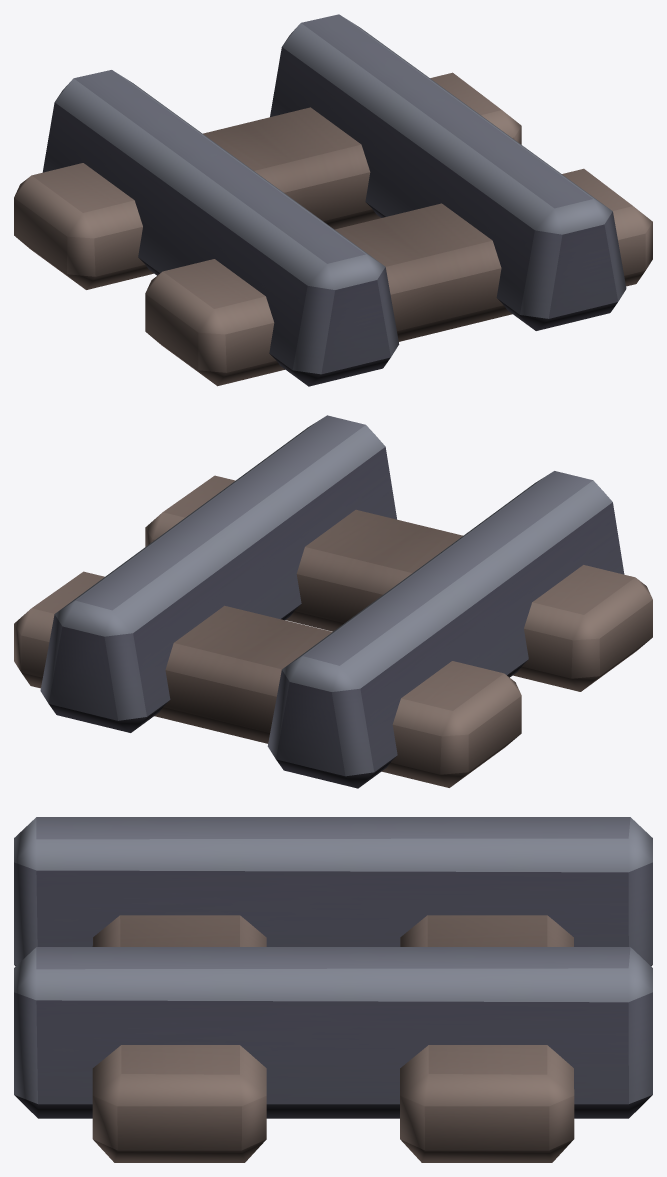
The model's file is elf_mine_rail_piece.fbx.
3 views of the same model, one above another, from view 1: azimuth 30°, elevation 25°; view 2: azimuth 150°, elevation 25°; view 3: azimuth 270°, elevation 25° (orthographic). The views are drawn at different scales.
Visible parts, largest first — view 1: elf_mine_rail_piece; view 2: elf_mine_rail_piece; view 3: elf_mine_rail_piece.
Boxes of the visible parts, x1=… form: elf_mine_rail_piece: x1=14, y1=14, x2=652, y2=386; elf_mine_rail_piece: x1=14, y1=415, x2=652, y2=788; elf_mine_rail_piece: x1=14, y1=817, x2=652, y2=1162.
Size of the model in its own units: 159 by 42.68 by 165.
